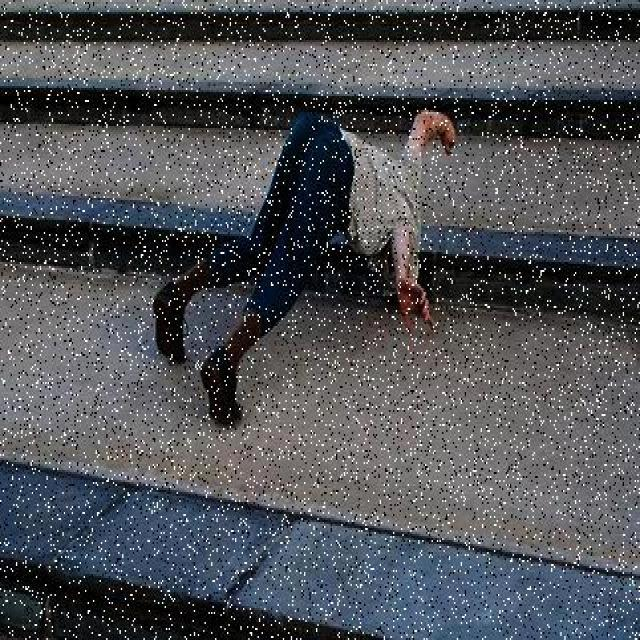fall: (158, 106, 461, 422)
